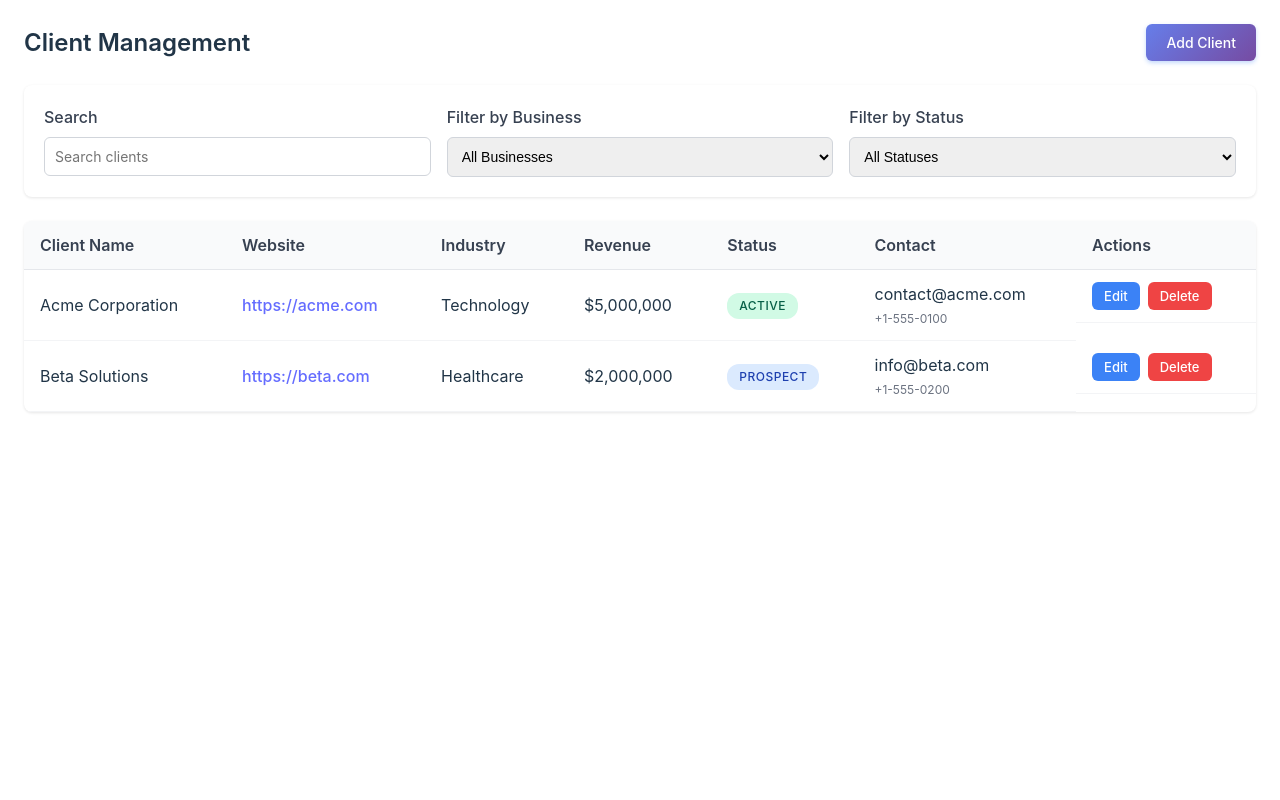
Test: ClientsManager › opens modal when Add Client is clicked
This screenshot has width=1280, height=800.
Click the button "Add Client": (1201, 42) 1146,24 -> 1256,61
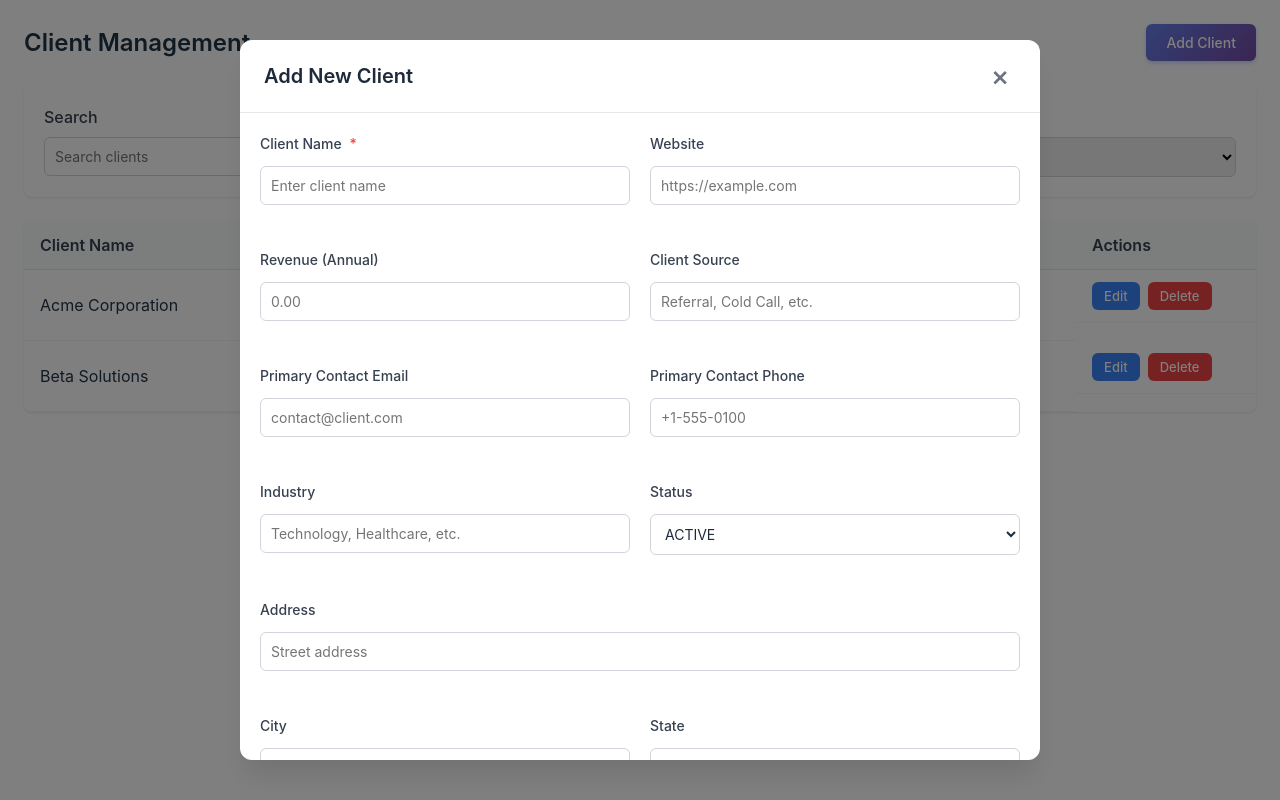
expect the heading "Add New Client" is shown: met, box 264,61 -> 413,91
